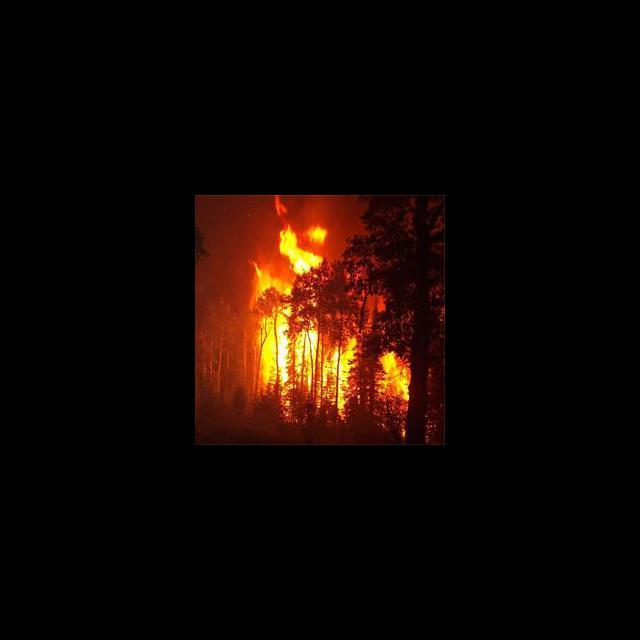Fire: (245, 201, 352, 409), (375, 346, 409, 398)
